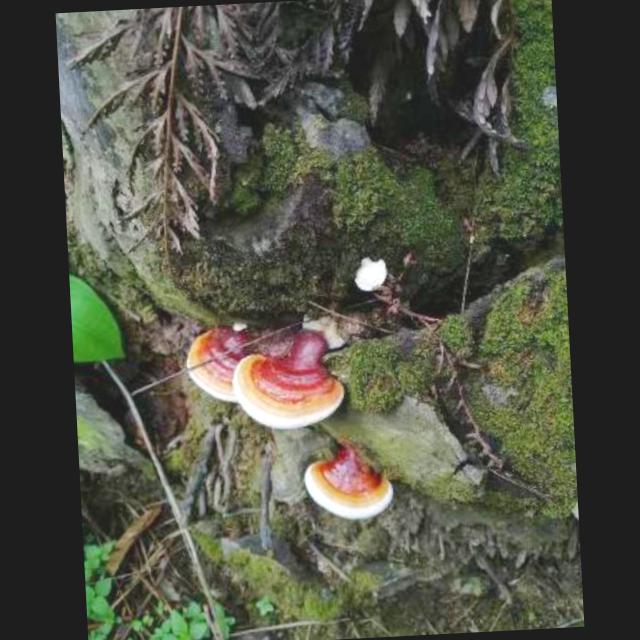ganoderma: (228, 329, 348, 436), (302, 441, 395, 526), (182, 326, 260, 409)
primordium: (352, 256, 389, 295)
